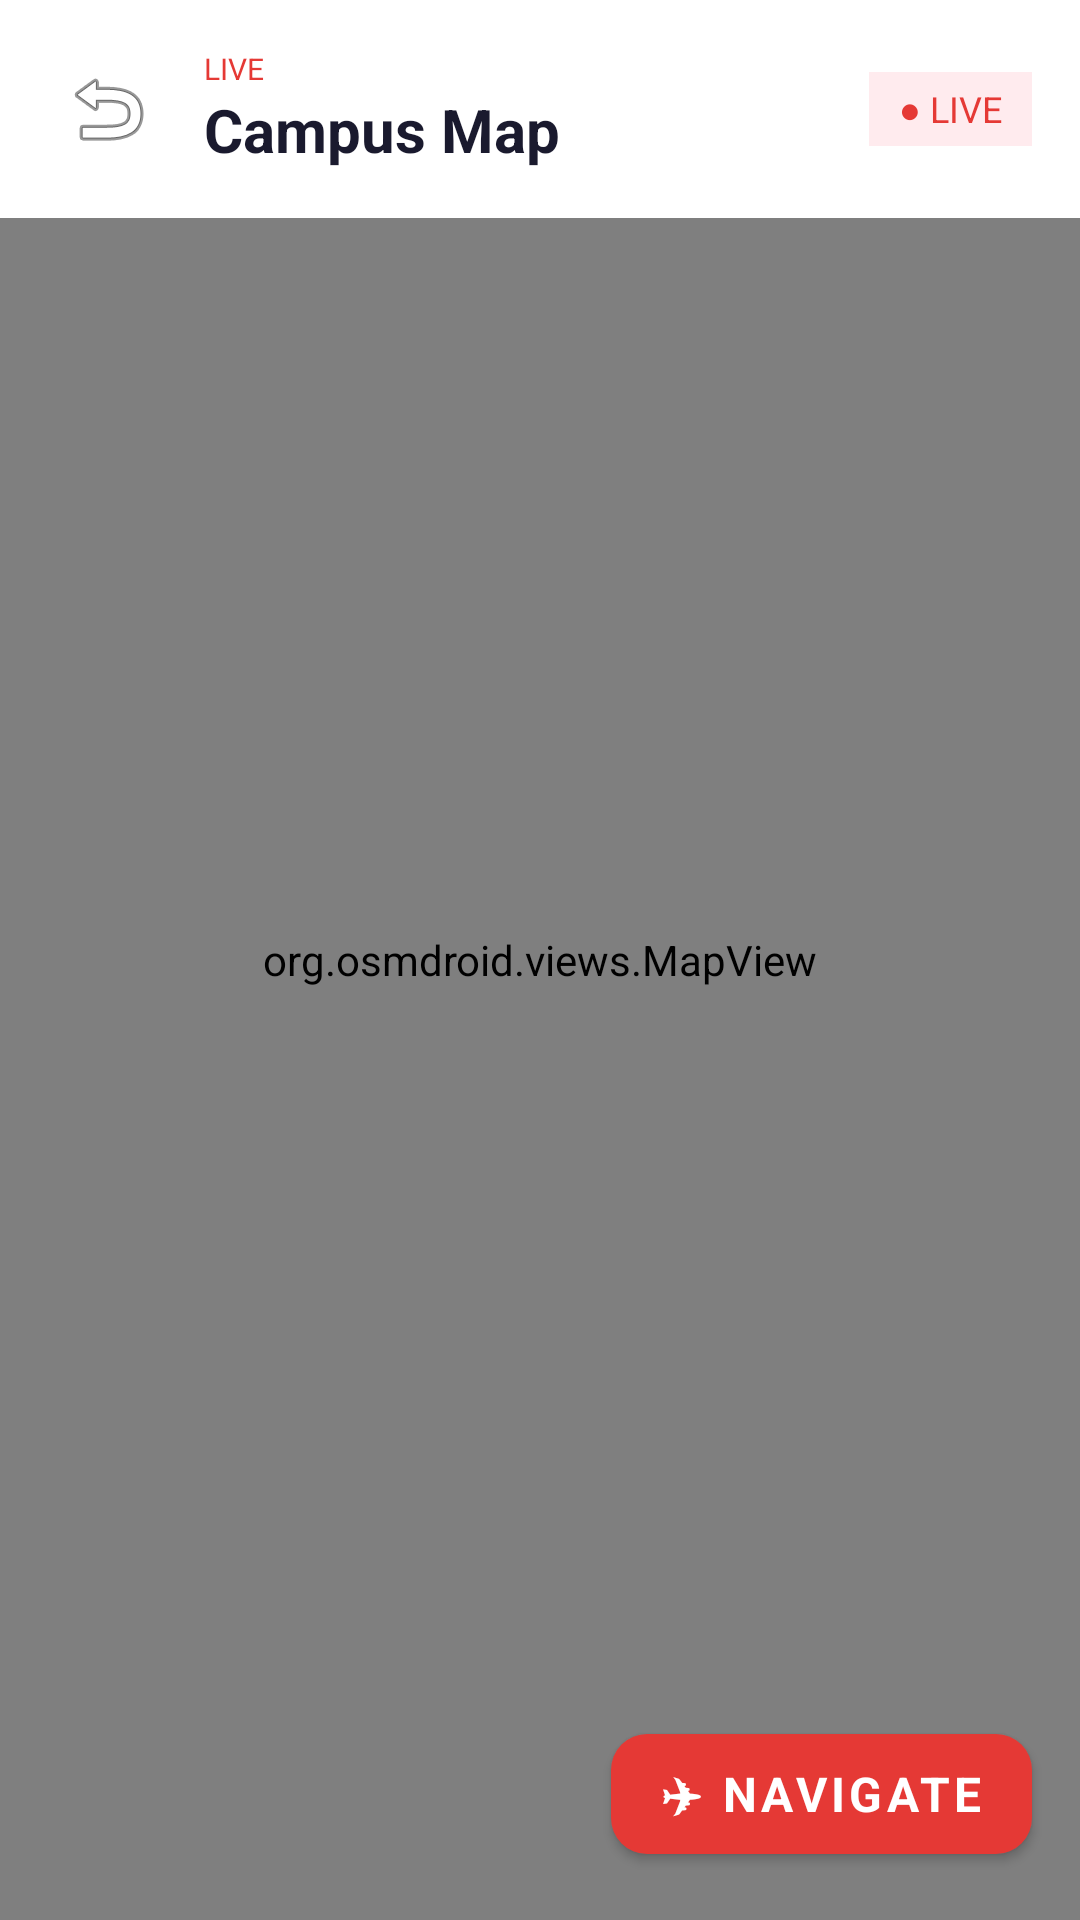

Point at icon controls on the screen. Image size 1080px x 1920px, points as [x,y].
Back: [109,109]
